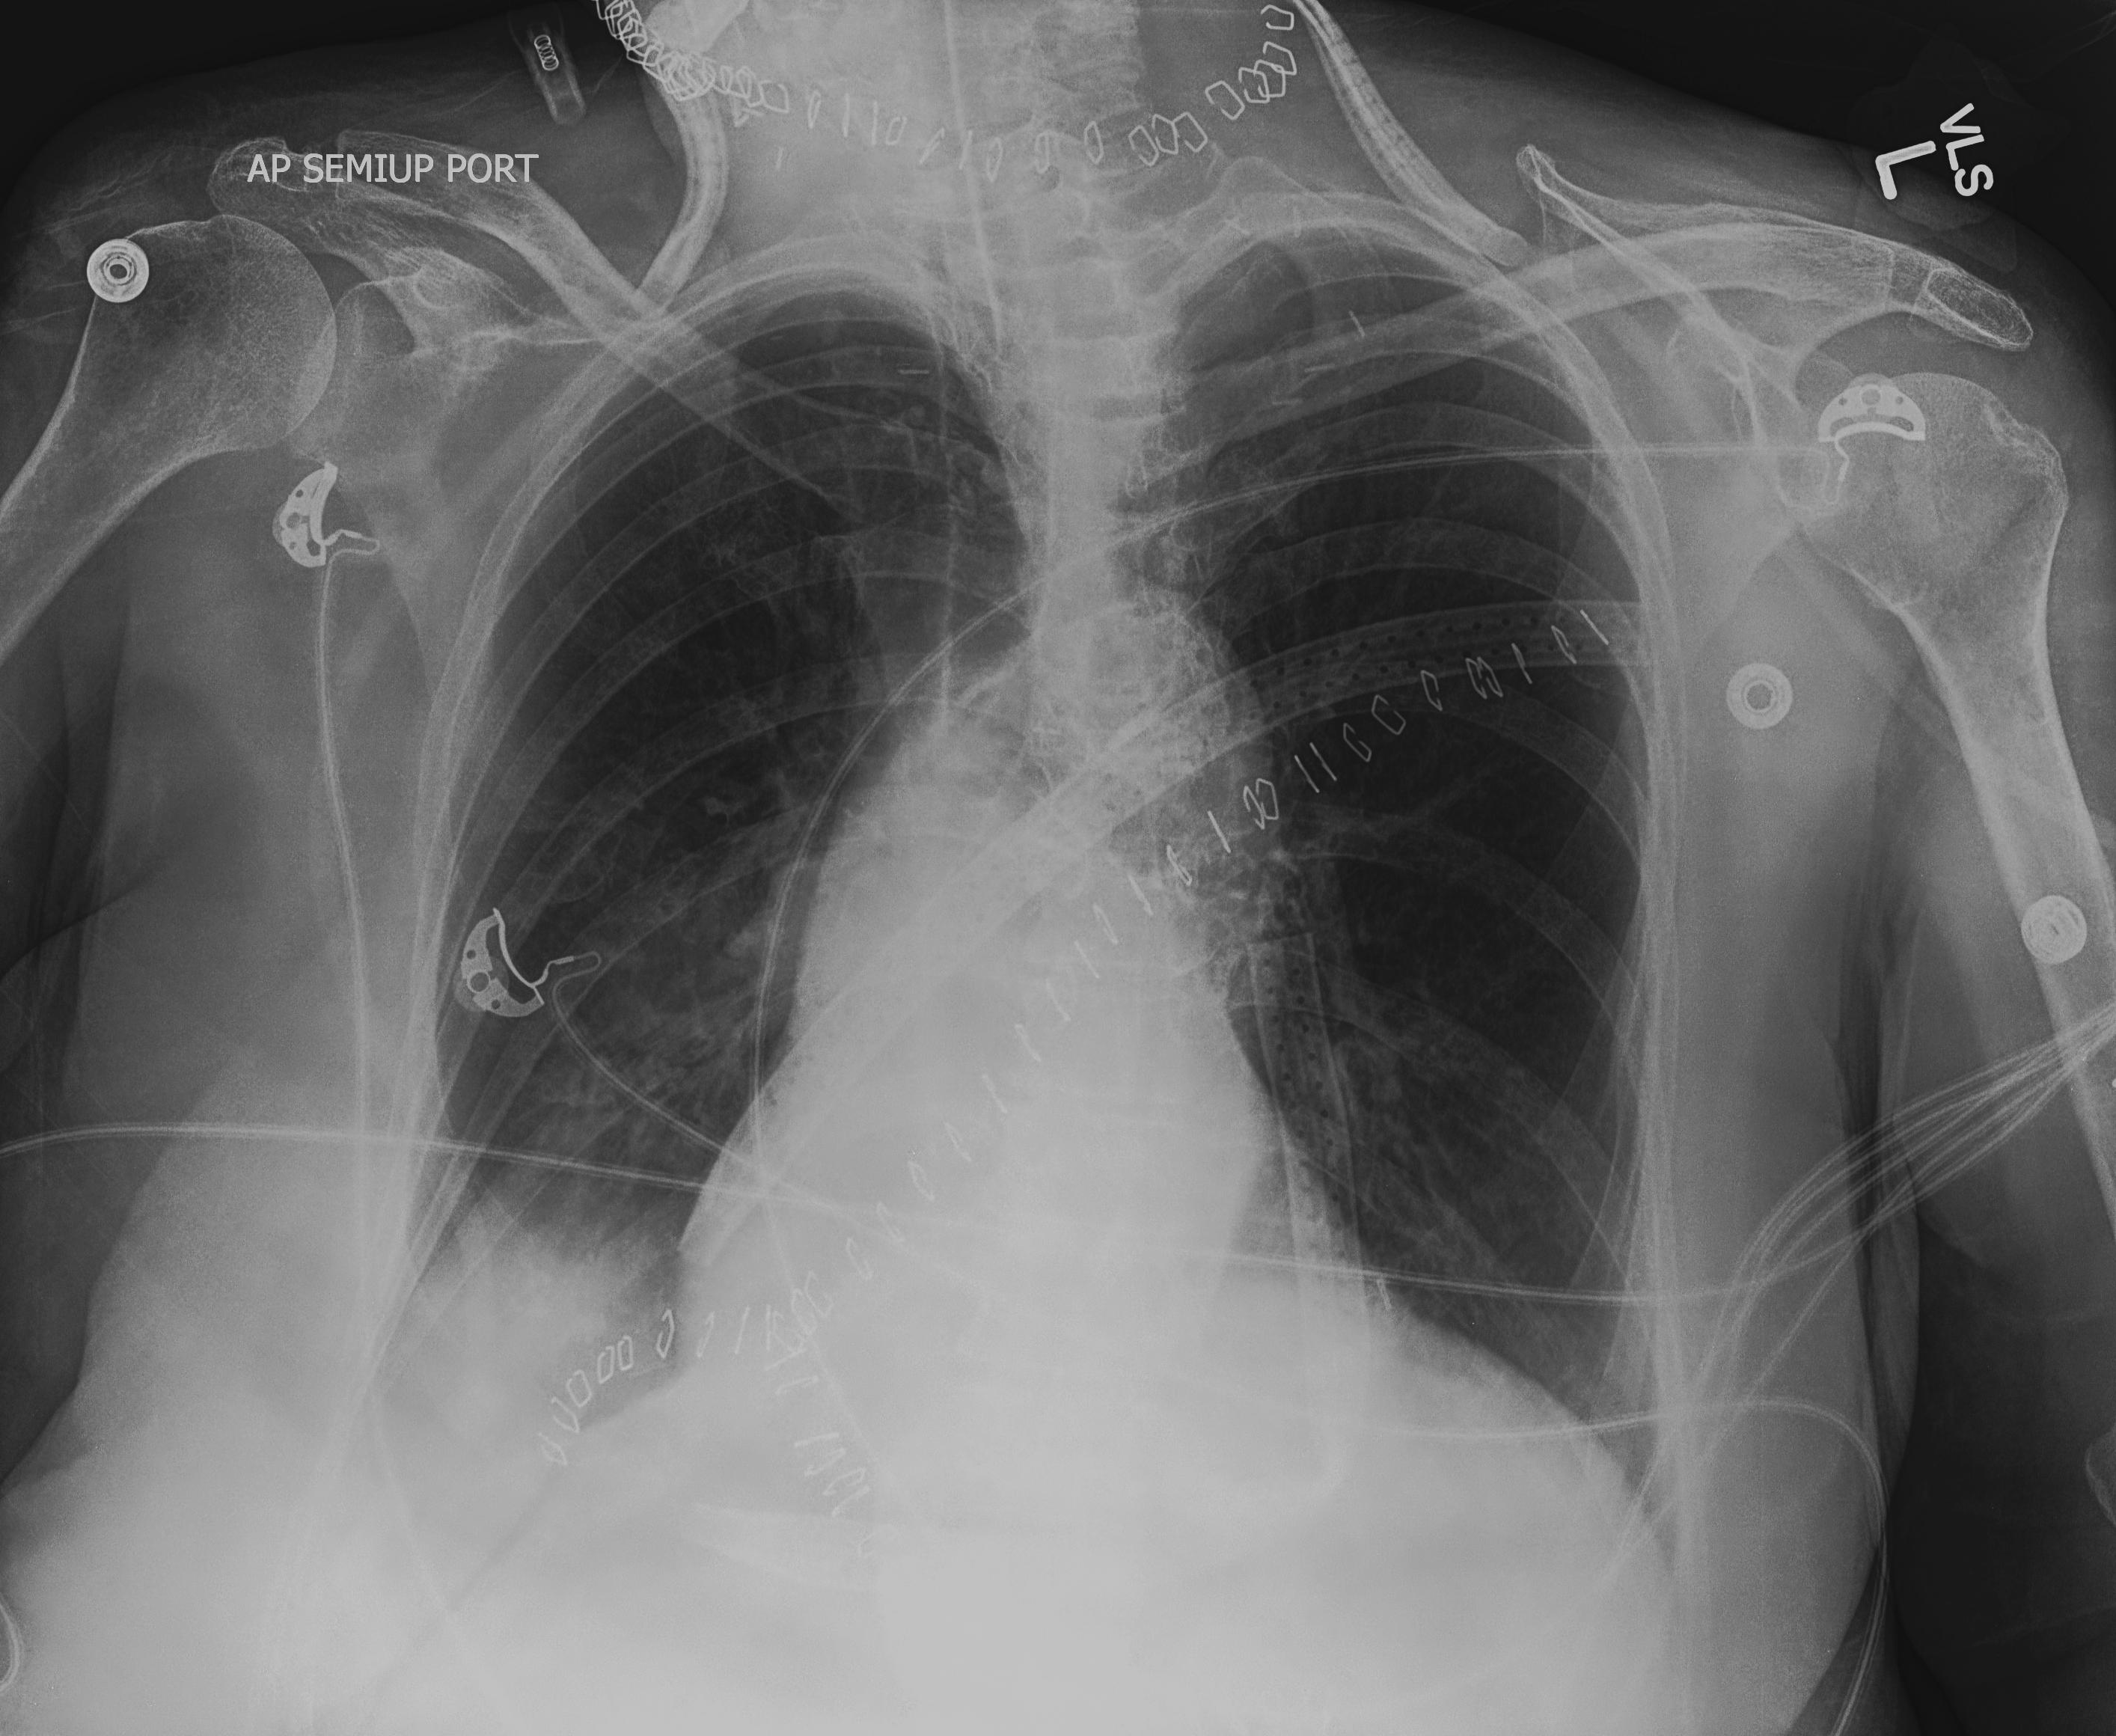Pleural Effusion: (336, 1170, 710, 1620)
